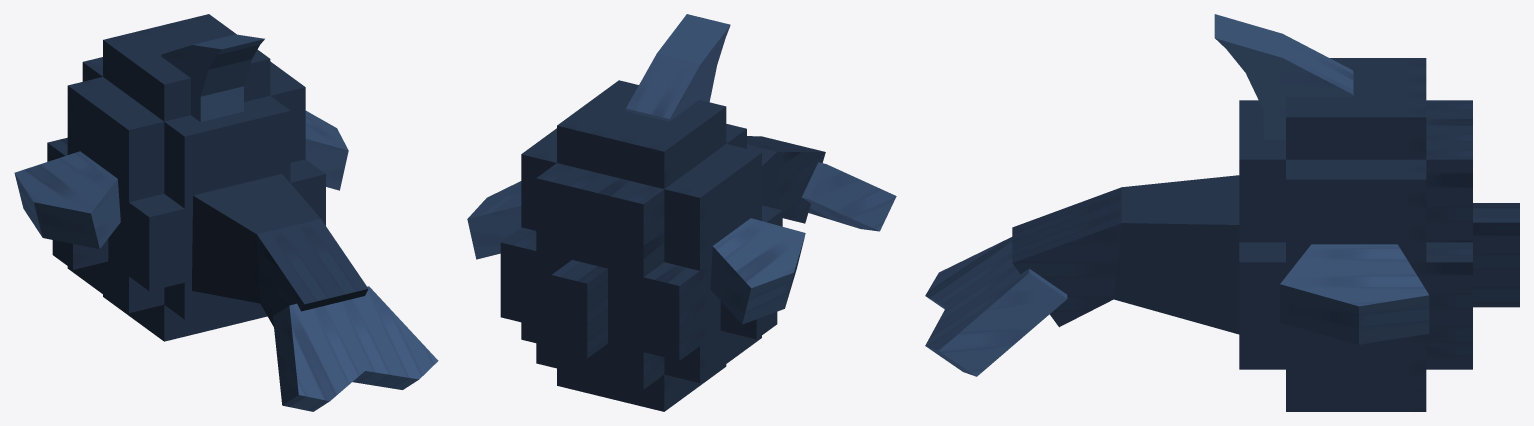
The model's file is egg_z06_03.glb.
3 renders of one model, left to right at view 1: azimuth 30°, elevation 25°; view 2: azimuth 150°, elevation 25°; view 3: azimuth 270°, elevation 25°, orthographic. The views are drawn at different scales.
Visible parts, largest first — view 1: model_006; view 2: model_006; view 3: model_006.
Boxes of the visible parts, x1,y1,x2,y2 form: model_006: [14, 14, 438, 411]; model_006: [467, 14, 896, 411]; model_006: [925, 14, 1519, 411].
Bounding box in the file's own units: 2.7 × 2.62 × 4.
Materials: 2 (2 with a texture image).
